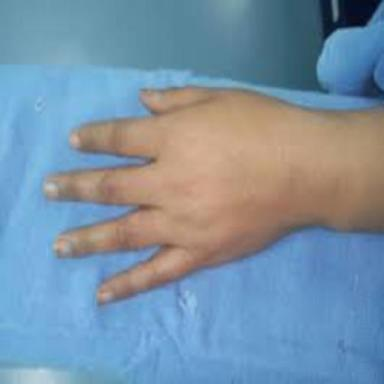normal skin: (44, 88, 384, 303)
